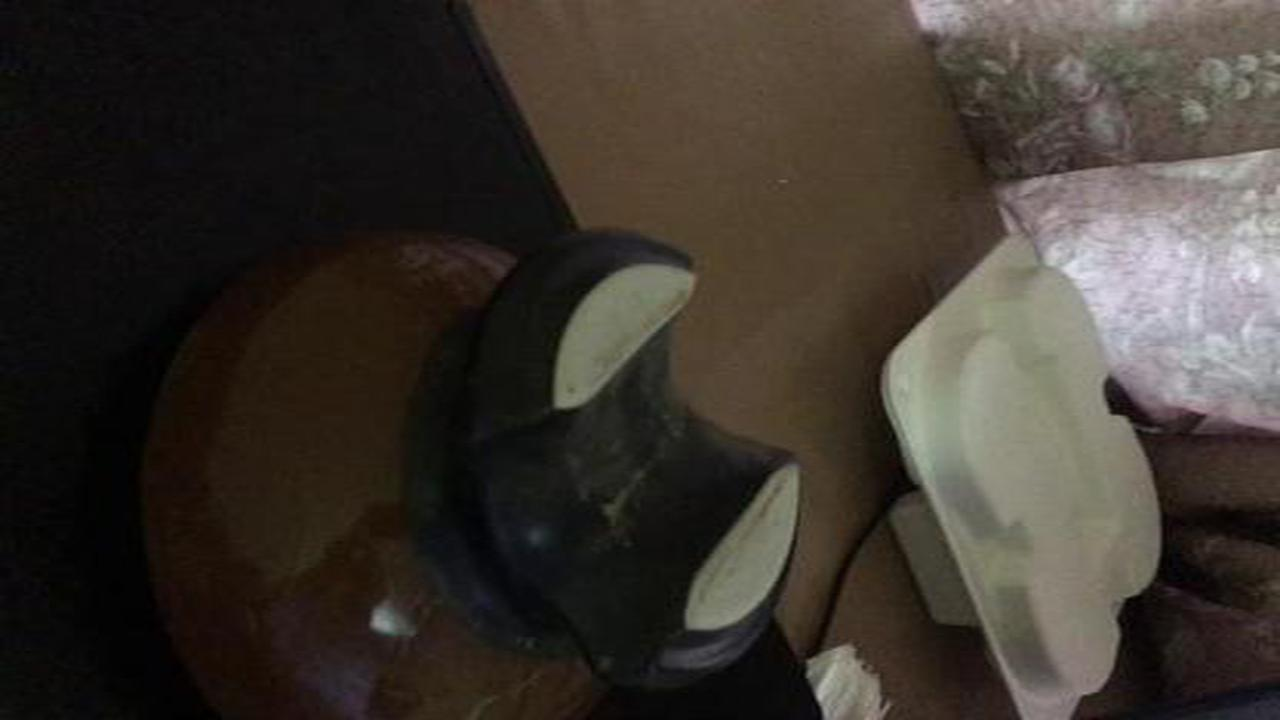insulator_pin: (107, 210, 834, 720)
